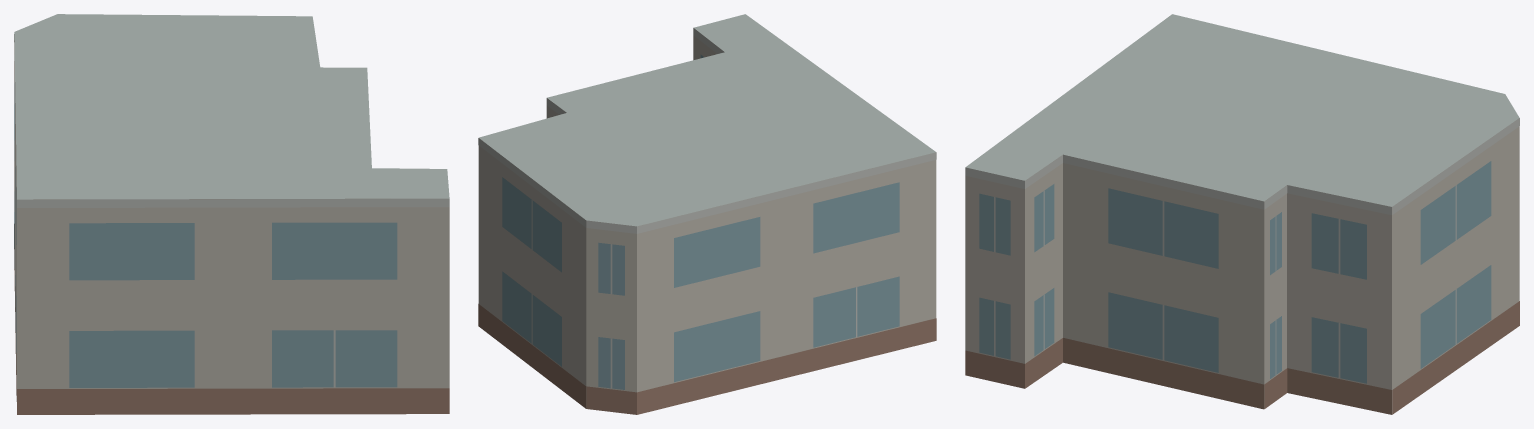
The model's file is survey-upis-32725635.glb.
The picture shows the model from 3 angles, left to right: view 1: azimuth 30°, elevation 25°; view 2: azimuth 150°, elevation 25°; view 3: azimuth 270°, elevation 25°; orthographic projection. The views are drawn at different scales.
Visible parts, largest first — view 1: survey-upis-32725635.tmp; view 2: survey-upis-32725635.tmp; view 3: survey-upis-32725635.tmp.
Boxes of the visible parts, x1,y1,x2,y2 form: survey-upis-32725635.tmp: [14, 14, 449, 414]; survey-upis-32725635.tmp: [478, 14, 936, 414]; survey-upis-32725635.tmp: [965, 14, 1519, 414].
Size of the model in its own units: 12.15 by 6.1 by 14.75.
